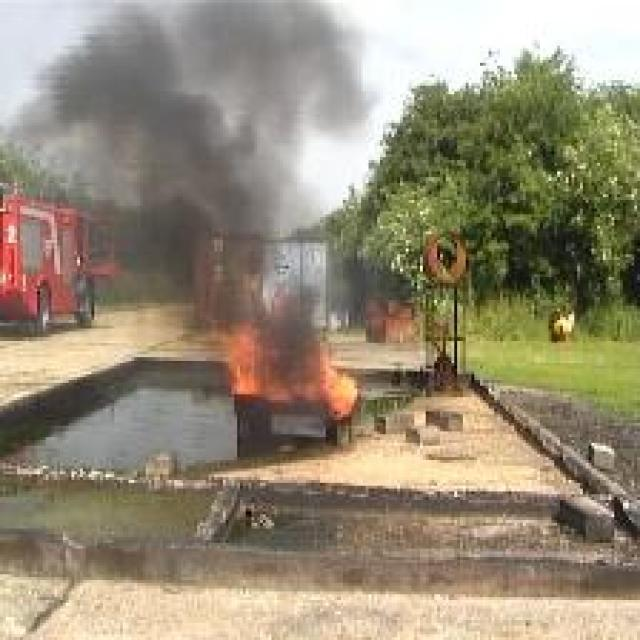Fire: (205, 323, 358, 420)
